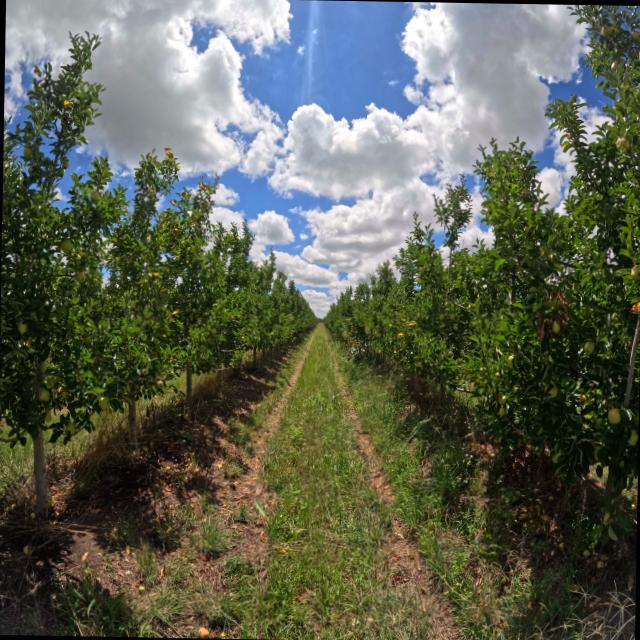-FireBlight-: (537, 311, 570, 342), (557, 290, 573, 315), (565, 278, 573, 292), (545, 290, 553, 301), (546, 273, 553, 279)
